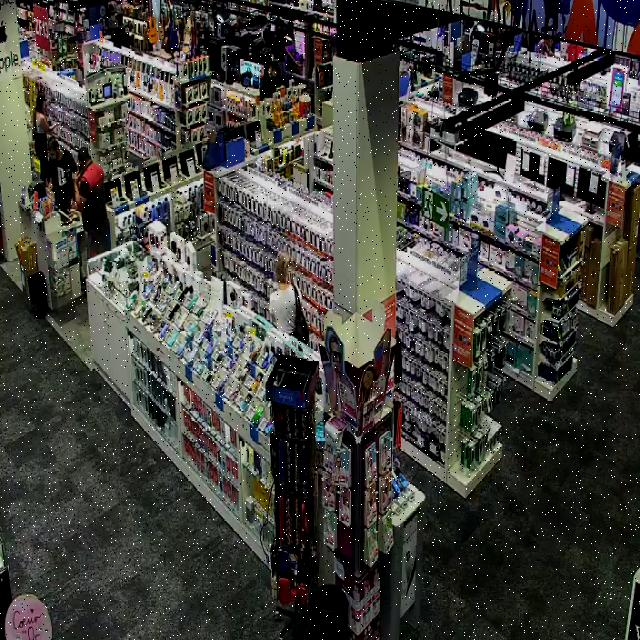bags: (292, 286, 308, 343)
person: (75, 148, 109, 257), (269, 253, 307, 342)
